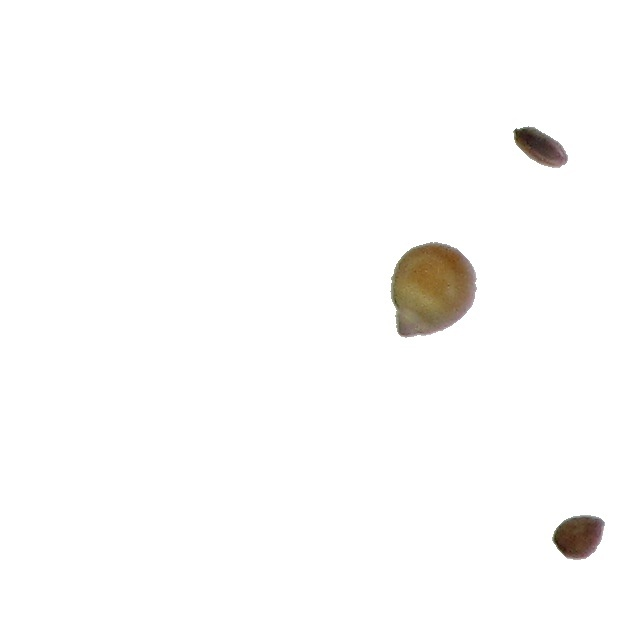buckwheat: (551, 514, 606, 561), (512, 125, 569, 169)
mais: (389, 241, 478, 339)
